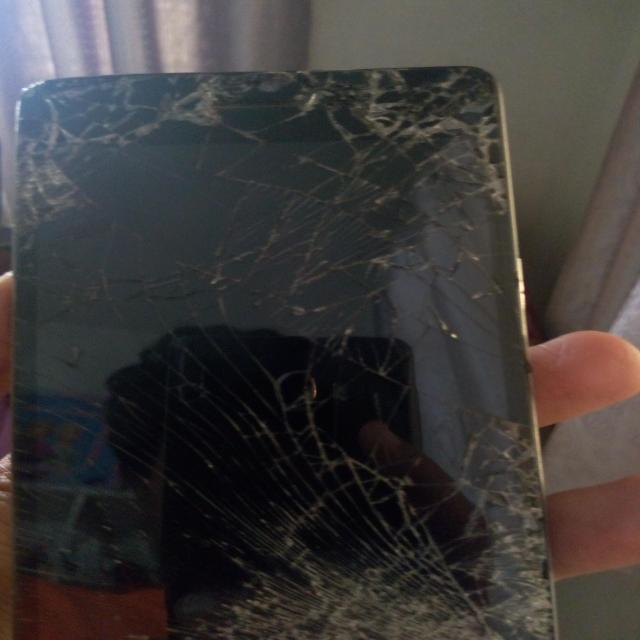mobile-phone: (21, 51, 627, 640)
